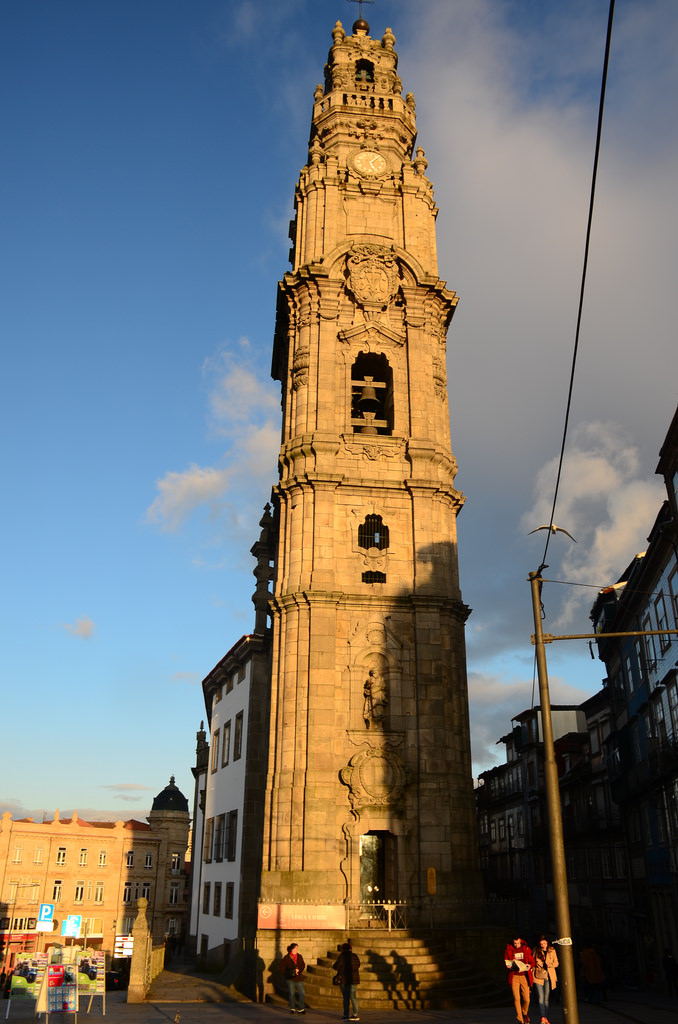clerigos: (250, 0, 485, 934)
